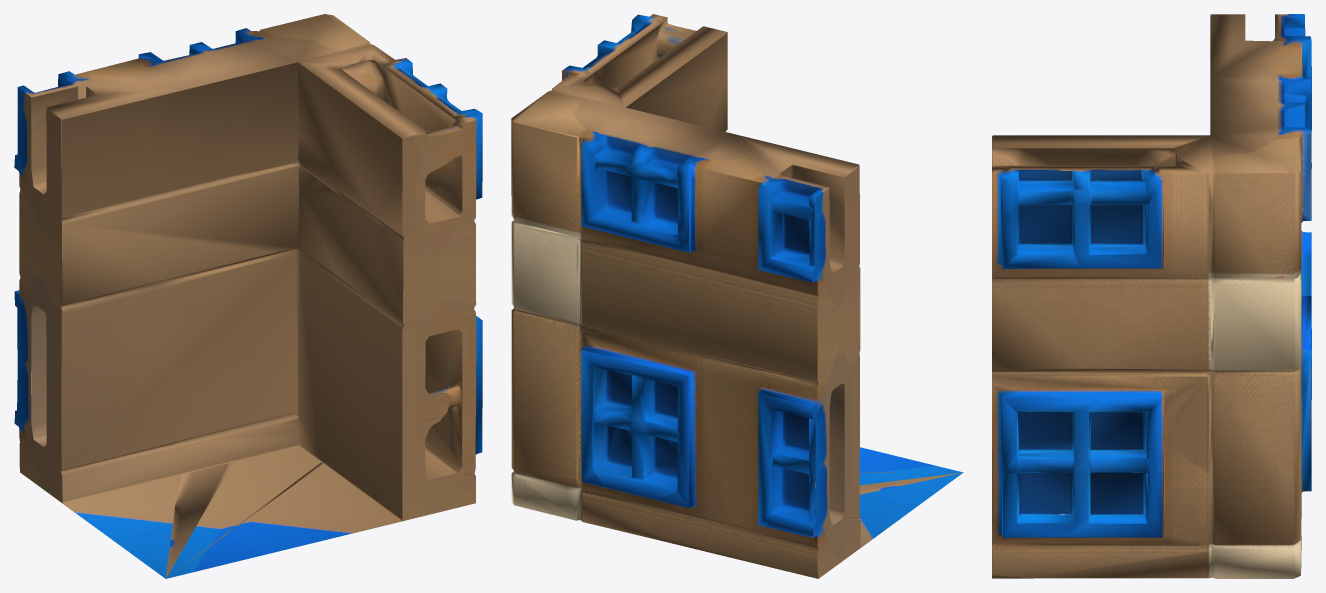
The model's file is 8-upper-walls-back-right.fbx.
3 renders of one model, left to right at view 1: azimuth 30°, elevation 25°; view 2: azimuth 150°, elevation 25°; view 3: azimuth 270°, elevation 25°, orthographic. The views are drawn at different scales.
Parts seen in each view (by area): view 1: upper-walls-back-right; view 2: upper-walls-back-right; view 3: upper-walls-back-right.
Part boxes in pixels (x1,y1,x2,y2): upper-walls-back-right: [14, 14, 482, 578]; upper-walls-back-right: [511, 14, 963, 578]; upper-walls-back-right: [992, 14, 1311, 578].
Size of the model in its own units: 5224 by 5952 by 4258.
1 material, 1 textured.
